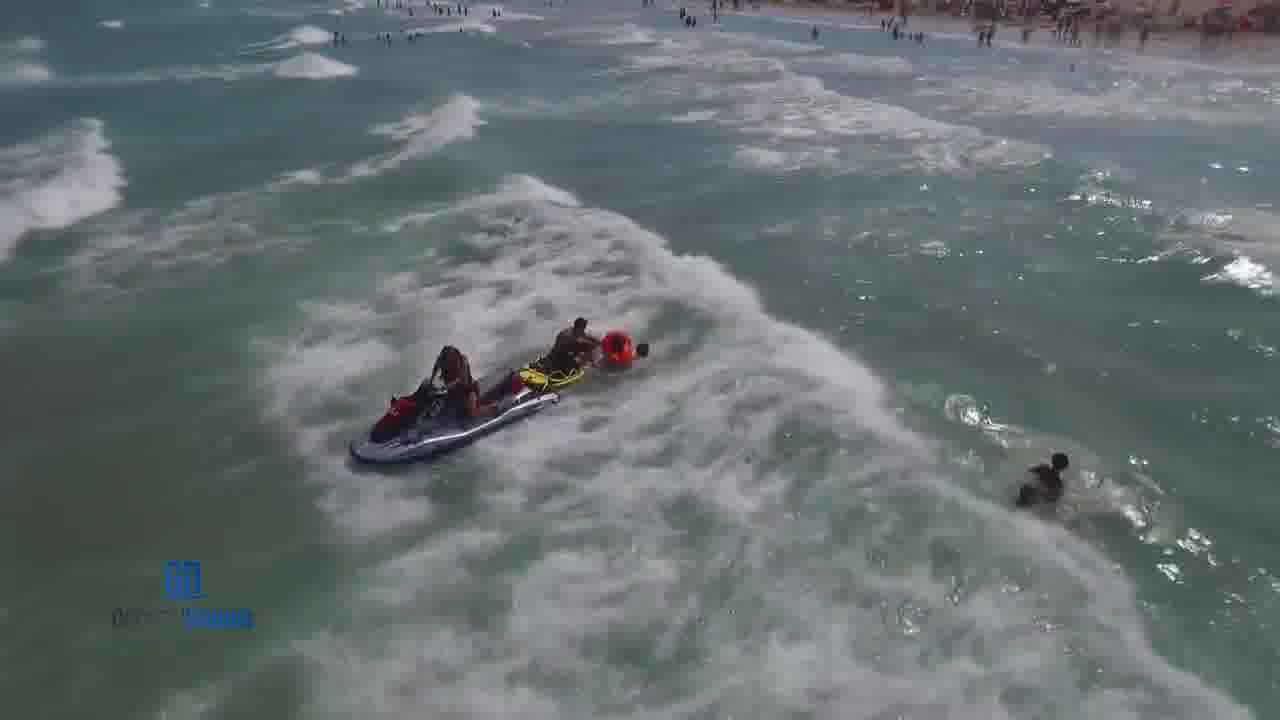human: (1008, 472, 1070, 529), (1027, 443, 1088, 497), (598, 325, 643, 370), (629, 333, 677, 368)
